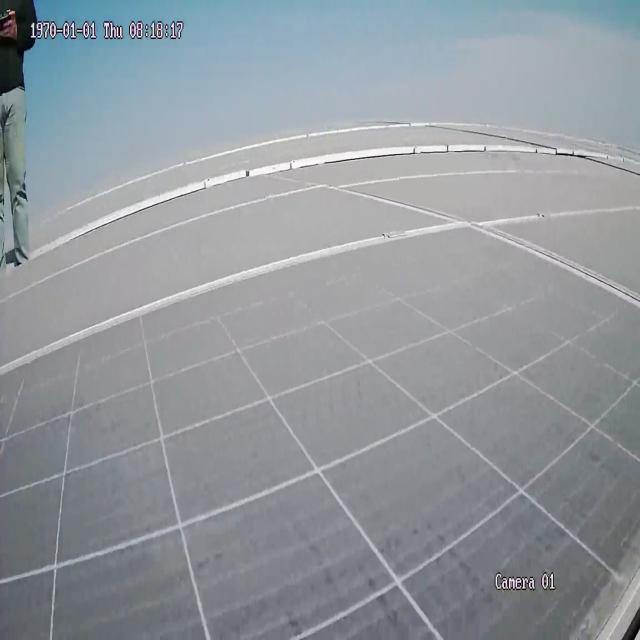interior panel: (2, 203, 636, 380)
